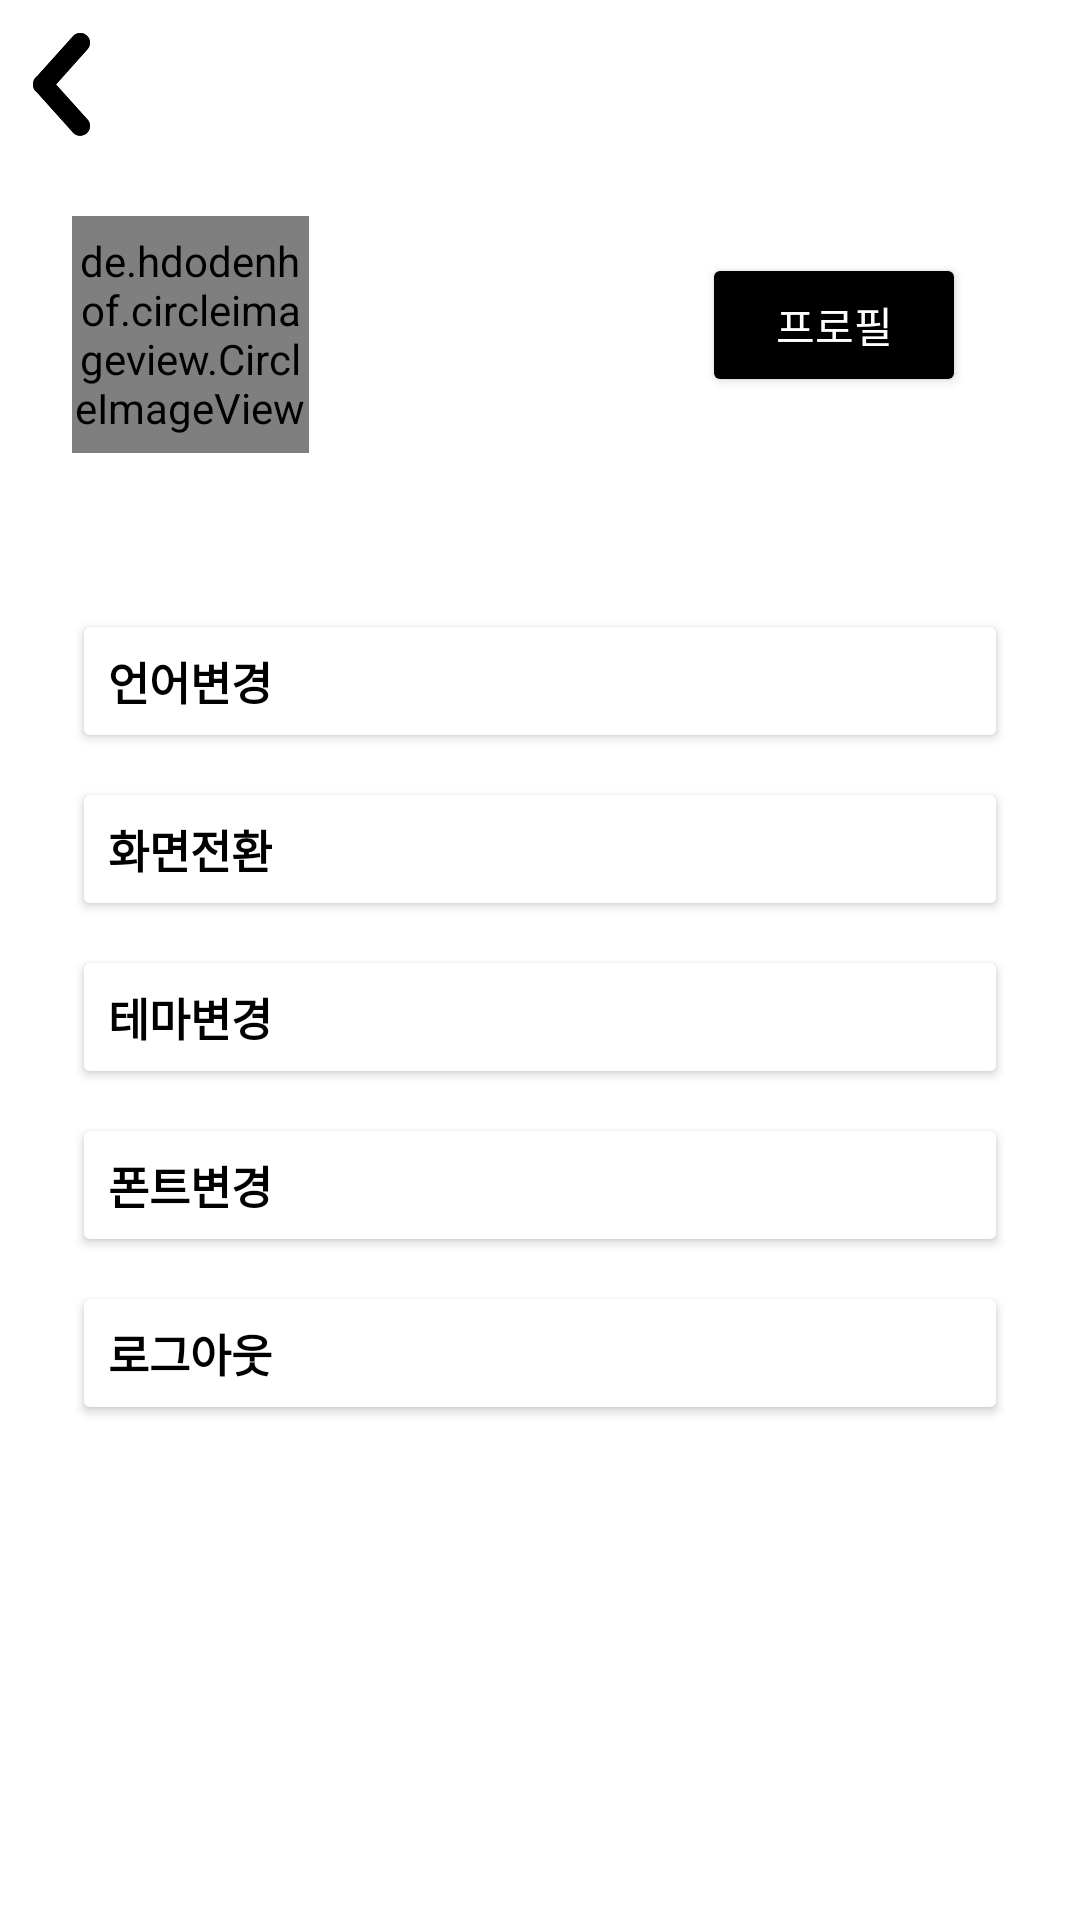

Icon bounding boxes for this 1080px x 1920px phone screenshot, format detection(x1, y1, x2, y2):
btnback: detection(33, 33, 90, 136)
